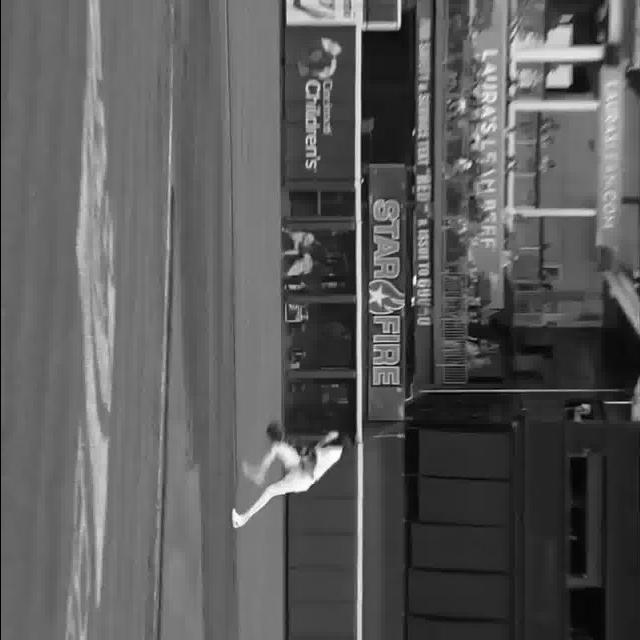baseball_glove: (264, 423, 286, 440)
shoe: (225, 509, 247, 533), (237, 463, 262, 483)
